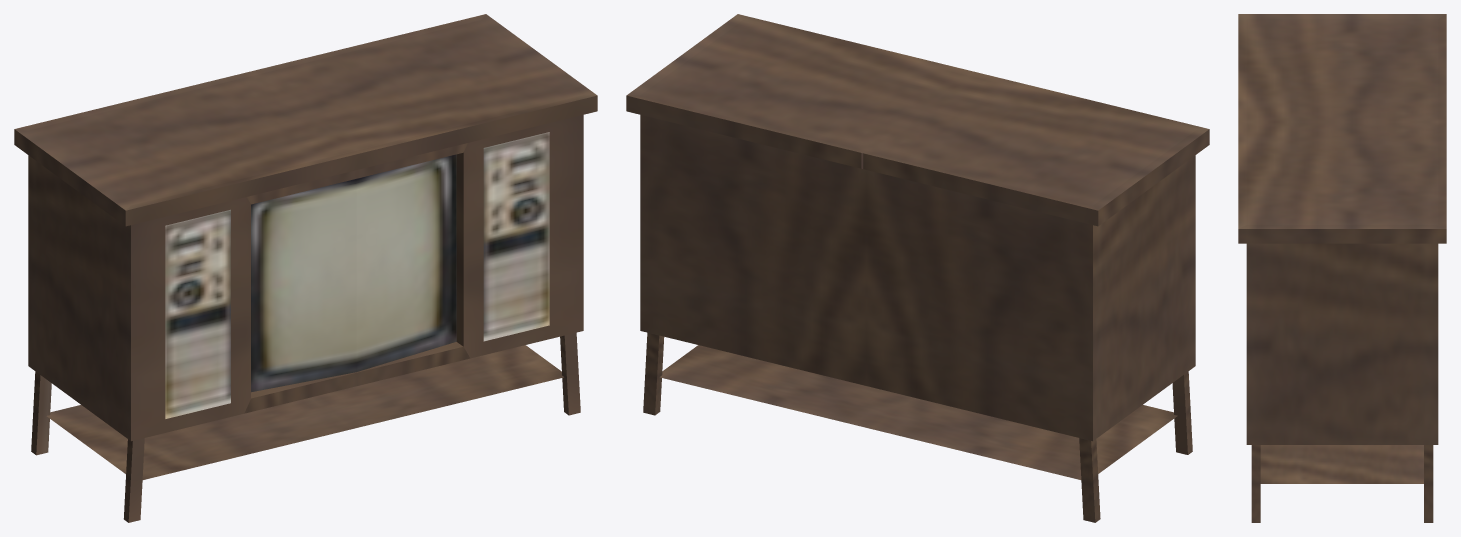
The model's file is Tele.fbx.
The picture shows the model from 3 angles, left to right: view 1: azimuth 30°, elevation 25°; view 2: azimuth 150°, elevation 25°; view 3: azimuth 270°, elevation 25°; orthographic projection. The views are drawn at different scales.
Visible parts, largest first — view 1: Cube; view 2: Cube; view 3: Cube.
Boxes of the visible parts, <box> form: Cube: <box>14,14,597,522</box>; Cube: <box>626,14,1209,522</box>; Cube: <box>1238,14,1446,522</box>.
Bounding box in the file's own units: 530 × 344 × 217.
Materials: 1 (1 with a texture image).
